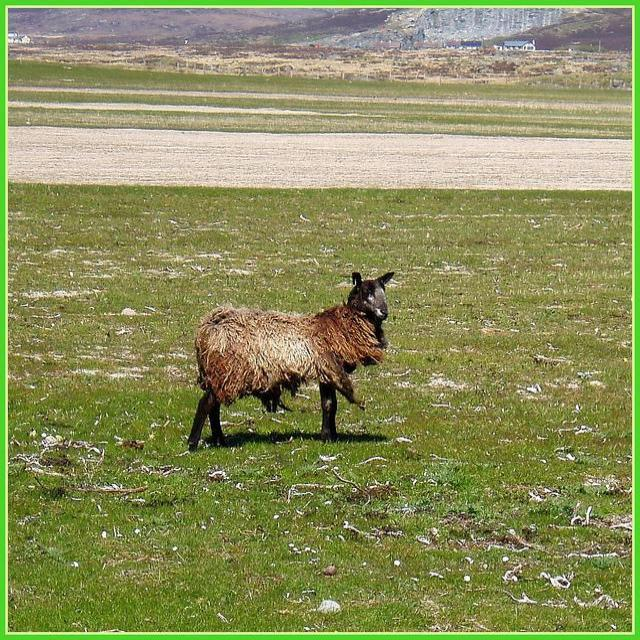Sheep: (187, 273, 395, 451)
